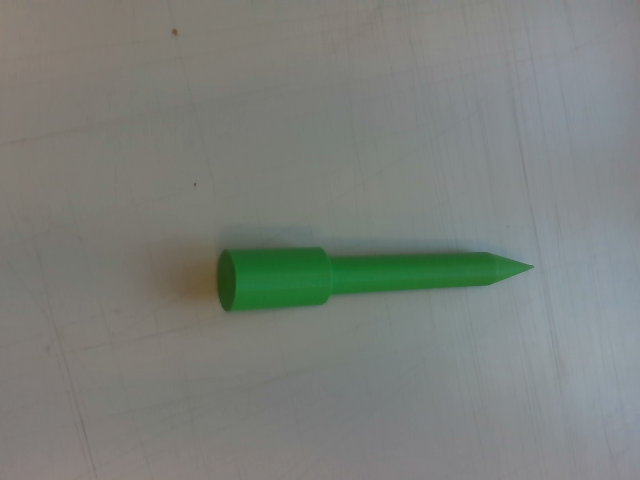Probe: (213, 240, 544, 317)
